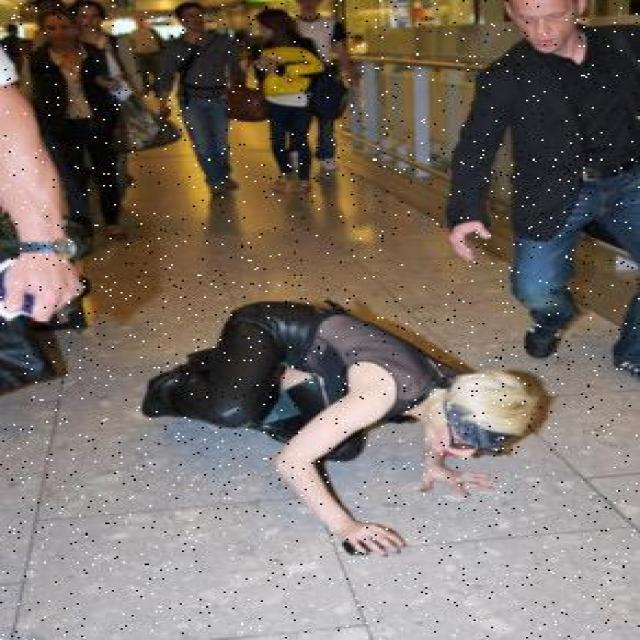fall: (162, 294, 524, 527)
